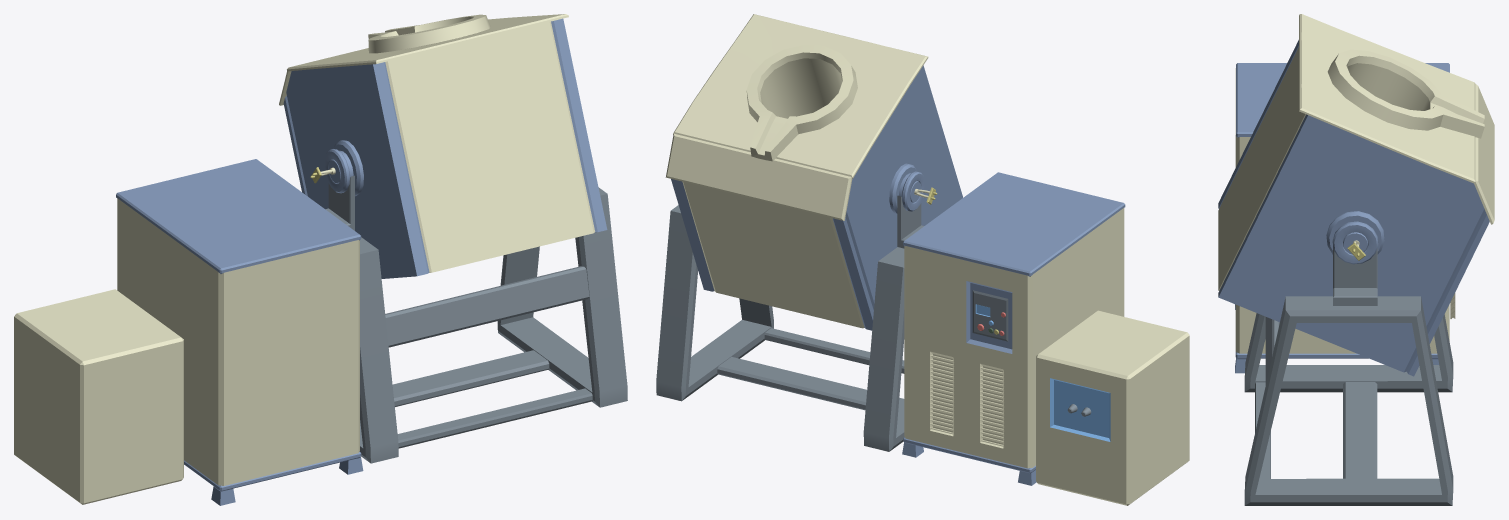
The picture shows the model from 3 angles, left to right: view 1: azimuth 30°, elevation 25°; view 2: azimuth 150°, elevation 25°; view 3: azimuth 270°, elevation 25°; orthographic projection. The views are drawn at different scales.
Parts seen in each view (by area): view 1: polySurface4; view 2: polySurface4; view 3: polySurface4.
Part boxes in pixels (x1,y1,x2,y2): polySurface4: (14, 14, 627, 505); polySurface4: (656, 14, 1189, 505); polySurface4: (1218, 14, 1494, 505).
Size of the model in its own units: 9.42 by 6.51 by 4.26.
